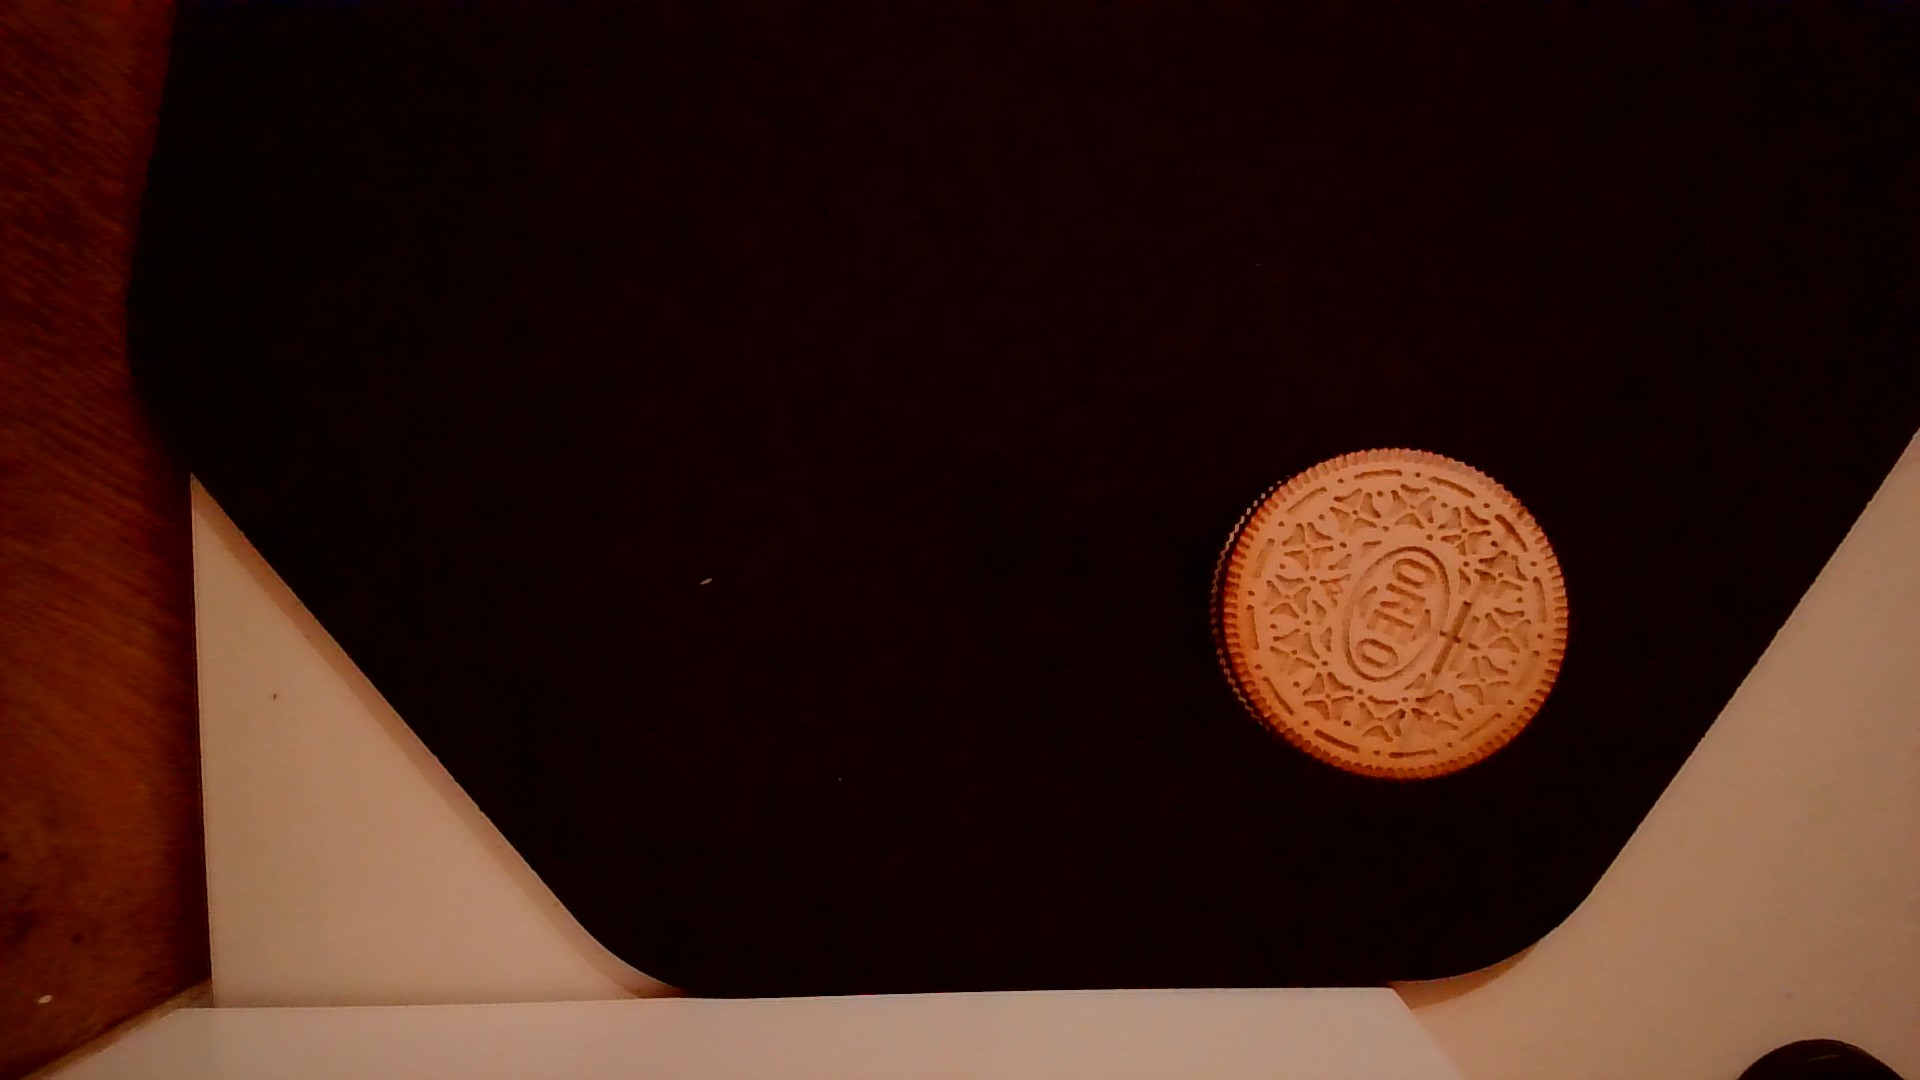Oréo: (1199, 438, 1578, 793)
